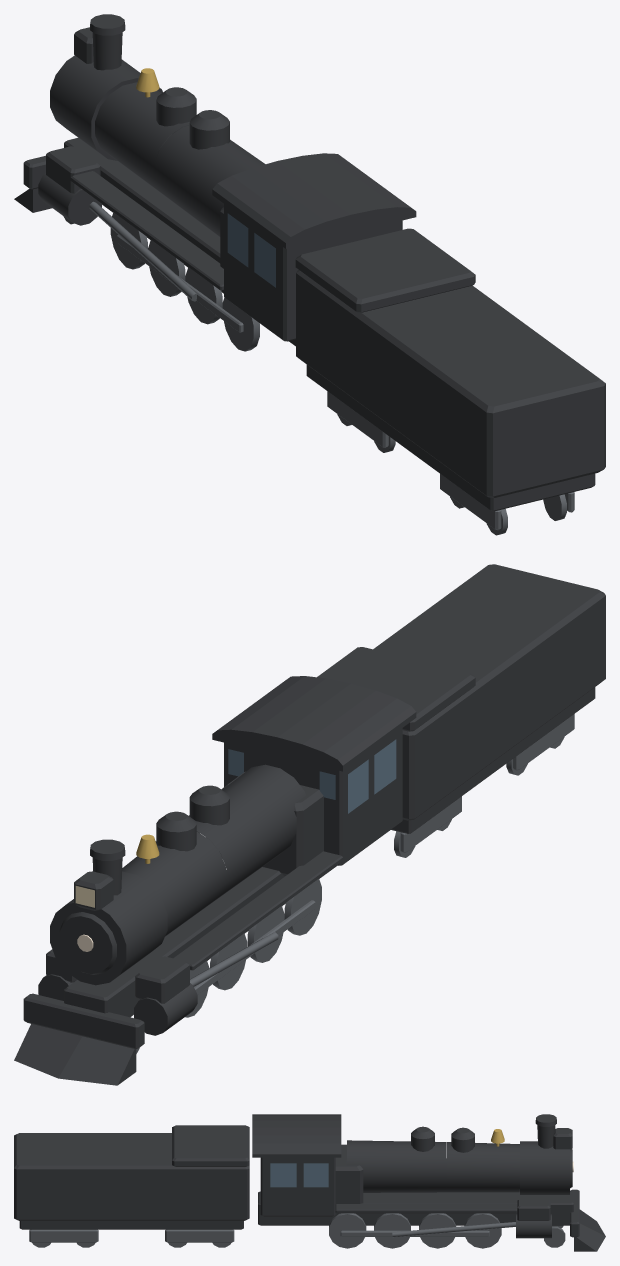
File: freedom-park-locomotive.glb
3 renders of one model, top to bottom at view 1: azimuth 30°, elevation 25°; view 2: azimuth 150°, elevation 25°; view 3: azimuth 270°, elevation 25°, orthographic. The views are drawn at different scales.
Visible parts, largest first — view 1: Gainesville Midland No. 301; view 2: Gainesville Midland No. 301; view 3: Gainesville Midland No. 301.
Part boxes in pixels (x1,y1,x2,y2): Gainesville Midland No. 301: [14, 14, 605, 535]; Gainesville Midland No. 301: [14, 564, 605, 1085]; Gainesville Midland No. 301: [14, 1114, 605, 1251].
Size of the model in its own units: 3.28 by 4.78 by 21.35.
